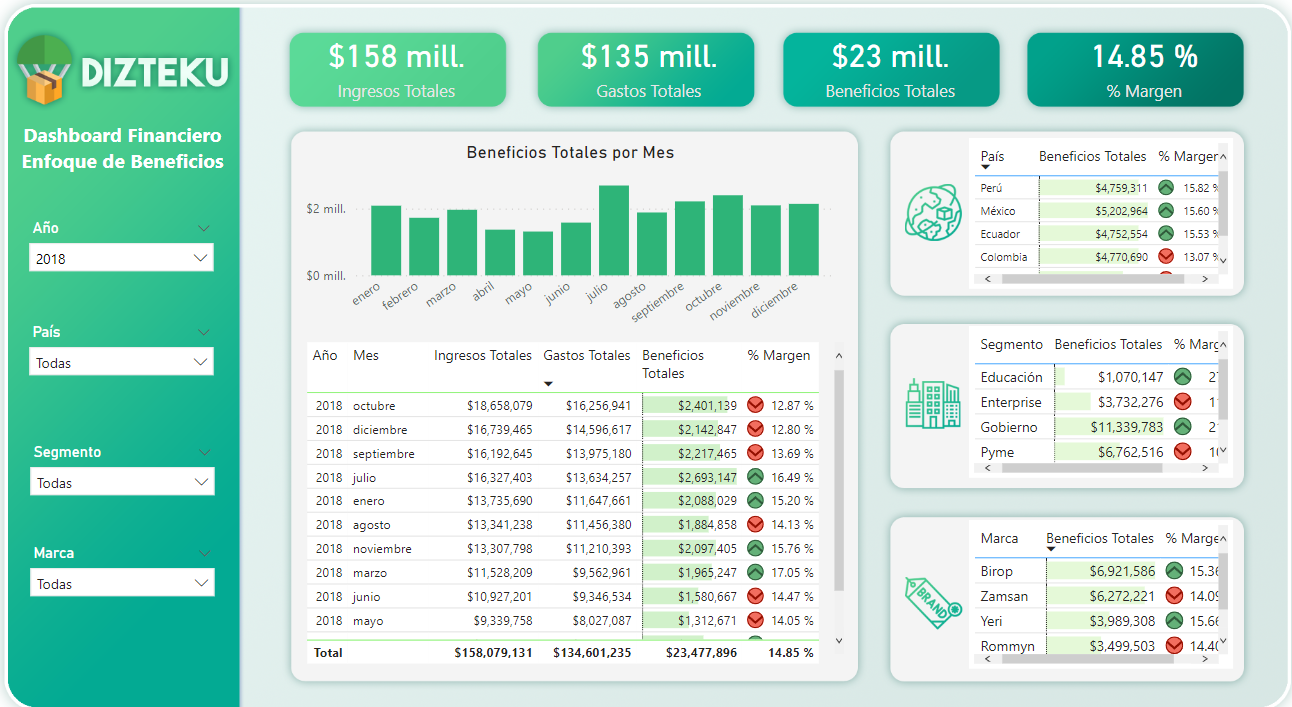

This screenshot's page, from the dashboard's own definition file:
{"tool":"powerbi","page":{"name":"Página 1","canvas":[1280,720],"ordinal":0},"visuals":[{"type":"slicer","fields":{"Values":["Resumen Financiero.Fecha.Variación.Jerarquía de fechas.Año"]},"box":[34.6,221.2,197.1,76.9],"z":0},{"type":"columnChart","fields":{"Category":["Resumen Financiero.Fecha.Variación.Jerarquía de fechas.Mes"],"Y":["Resumen Financiero.Beneficios Totales"]},"box":[305.8,151,518.3,188.5],"z":1000},{"type":"tableEx","fields":{"Values":["Resumen Financiero.Fecha.Variación.Jerarquía de fechas.Año","Resumen Financiero.Fecha.Variación.Jerarquía de fechas.Mes","Resumen Financiero.Ingresos Totales","Resumen Financiero.Gastos Totales","Resumen Financiero.Beneficios Totales","Resumen Financiero.% Margen"]},"box":[305.8,339.5,527,319.3],"z":2000},{"type":"card","fields":{"Values":["Resumen Financiero.Beneficios Totales"]},"box":[746.3,17.3,252,120.2],"z":3000},{"type":"card","fields":{"Values":["Resumen Financiero.% Margen"]},"box":[998.2,17.3,236.6,120.2],"z":4000},{"type":"card","fields":{"Values":["Resumen Financiero.Gastos Totales"]},"box":[497.2,17.3,285.6,120.2],"z":5000},{"type":"card","fields":{"Values":["Resumen Financiero.Ingresos Totales"]},"box":[269.3,34.6,255.8,85.6],"z":6000},{"type":"slicer","fields":{"Values":["Resumen Financiero.Segmento"]},"box":[35.6,436.6,197.1,76],"z":7000},{"type":"slicer","fields":{"Values":["Resumen Financiero.País"]},"box":[34.6,321.2,197.1,76.9],"z":8000},{"type":"slicer","fields":{"Values":["Resumen Financiero.Marca"]},"box":[35.6,533.7,197.1,69.2],"z":9000},{"type":"tableEx","fields":{"Values":["Resumen Financiero.País","Resumen Financiero.Beneficios Totales","Resumen Financiero.% Margen"]},"box":[948.2,148.1,253.9,145.2],"z":10000},{"type":"tableEx","fields":{"Values":["Resumen Financiero.Segmento","Resumen Financiero.Beneficios Totales","Resumen Financiero.% Margen"]},"box":[948.2,328.9,253.9,146.2],"z":11000},{"type":"tableEx","fields":{"Values":["Resumen Financiero.Marca","Resumen Financiero.Beneficios Totales","Resumen Financiero.% Margen"]},"box":[948.2,515.5,253.9,143.3],"z":12000},{"type":"textbox","box":[28.9,126.9,210.6,79.8],"z":13000}]}

Visuals, with their boxes in screenshot pixels (x1, y1, x2, y2), scaled from the page's 1280x720 canvas onto the 1292x707 screenshot:
slicer - Resumen Financiero.Fecha.Variación.Jerarquía de fechas.Año: <bbox>35, 217, 234, 293</bbox>
columnChart - Resumen Financiero.Fecha.Variación.Jerarquía de fechas.Mes x Resumen Financiero.Beneficios Totales: <bbox>309, 148, 832, 333</bbox>
tableEx - Resumen Financiero.Fecha.Variación.Jerarquía de fechas.Año x Resumen Financiero.Fecha.Variación.Jerarquía de fechas.Mes: <bbox>309, 333, 841, 647</bbox>
card - Resumen Financiero.Beneficios Totales: <bbox>753, 17, 1008, 135</bbox>
card - Resumen Financiero.% Margen: <bbox>1008, 17, 1246, 135</bbox>
card - Resumen Financiero.Gastos Totales: <bbox>502, 17, 790, 135</bbox>
card - Resumen Financiero.Ingresos Totales: <bbox>272, 34, 530, 118</bbox>
slicer - Resumen Financiero.Segmento: <bbox>36, 429, 235, 503</bbox>
slicer - Resumen Financiero.País: <bbox>35, 315, 234, 391</bbox>
slicer - Resumen Financiero.Marca: <bbox>36, 524, 235, 592</bbox>
tableEx - Resumen Financiero.País x Resumen Financiero.Beneficios Totales: <bbox>957, 145, 1213, 288</bbox>
tableEx - Resumen Financiero.Segmento x Resumen Financiero.Beneficios Totales: <bbox>957, 323, 1213, 467</bbox>
tableEx - Resumen Financiero.Marca x Resumen Financiero.Beneficios Totales: <bbox>957, 506, 1213, 647</bbox>
textbox: <bbox>29, 125, 242, 203</bbox>
